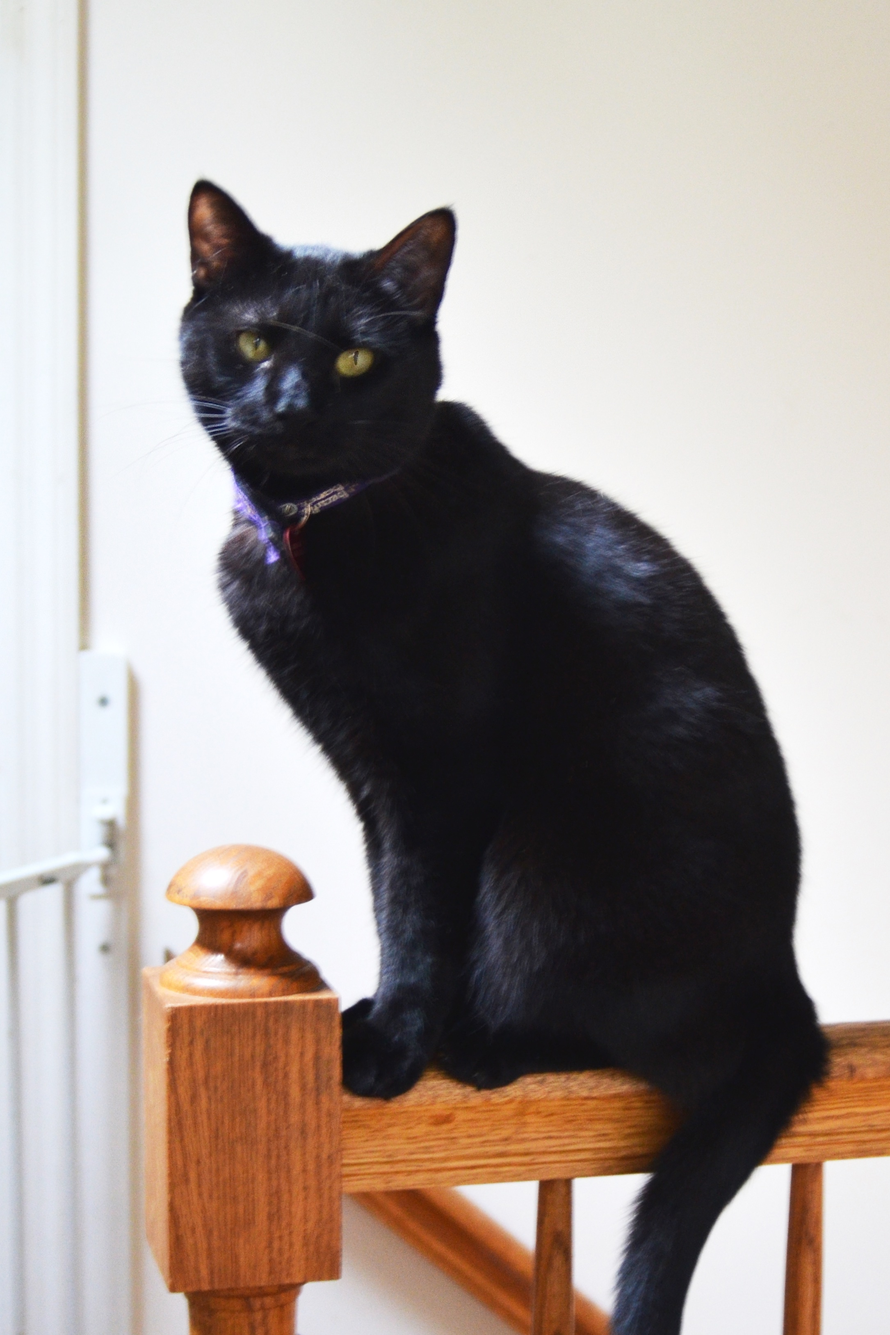cat: (157, 167, 837, 1334)
